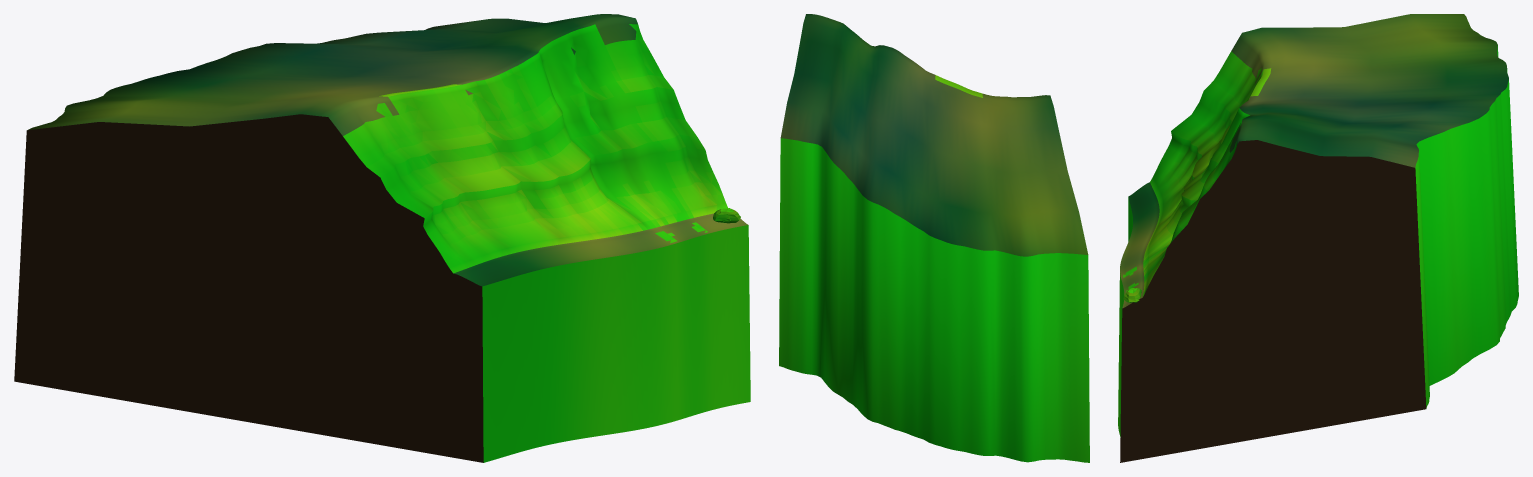
The model's file is SM_ForestRisingCliffs_11.fbx.
The picture shows the model from 3 angles, left to right: view 1: azimuth 30°, elevation 25°; view 2: azimuth 150°, elevation 25°; view 3: azimuth 270°, elevation 25°; orthographic projection. The views are drawn at different scales.
Visible parts, largest first — view 1: SM_ForestRisingCliffs_11; view 2: SM_ForestRisingCliffs_11; view 3: SM_ForestRisingCliffs_11.
Part boxes in pixels (left/top/right/bottom): SM_ForestRisingCliffs_11: left=14, top=14, right=750, bottom=462; SM_ForestRisingCliffs_11: left=779, top=14, right=1089, bottom=462; SM_ForestRisingCliffs_11: left=1118, top=14, right=1518, bottom=462.
Size of the model in its own units: 78.03 by 57.97 by 48.68.
